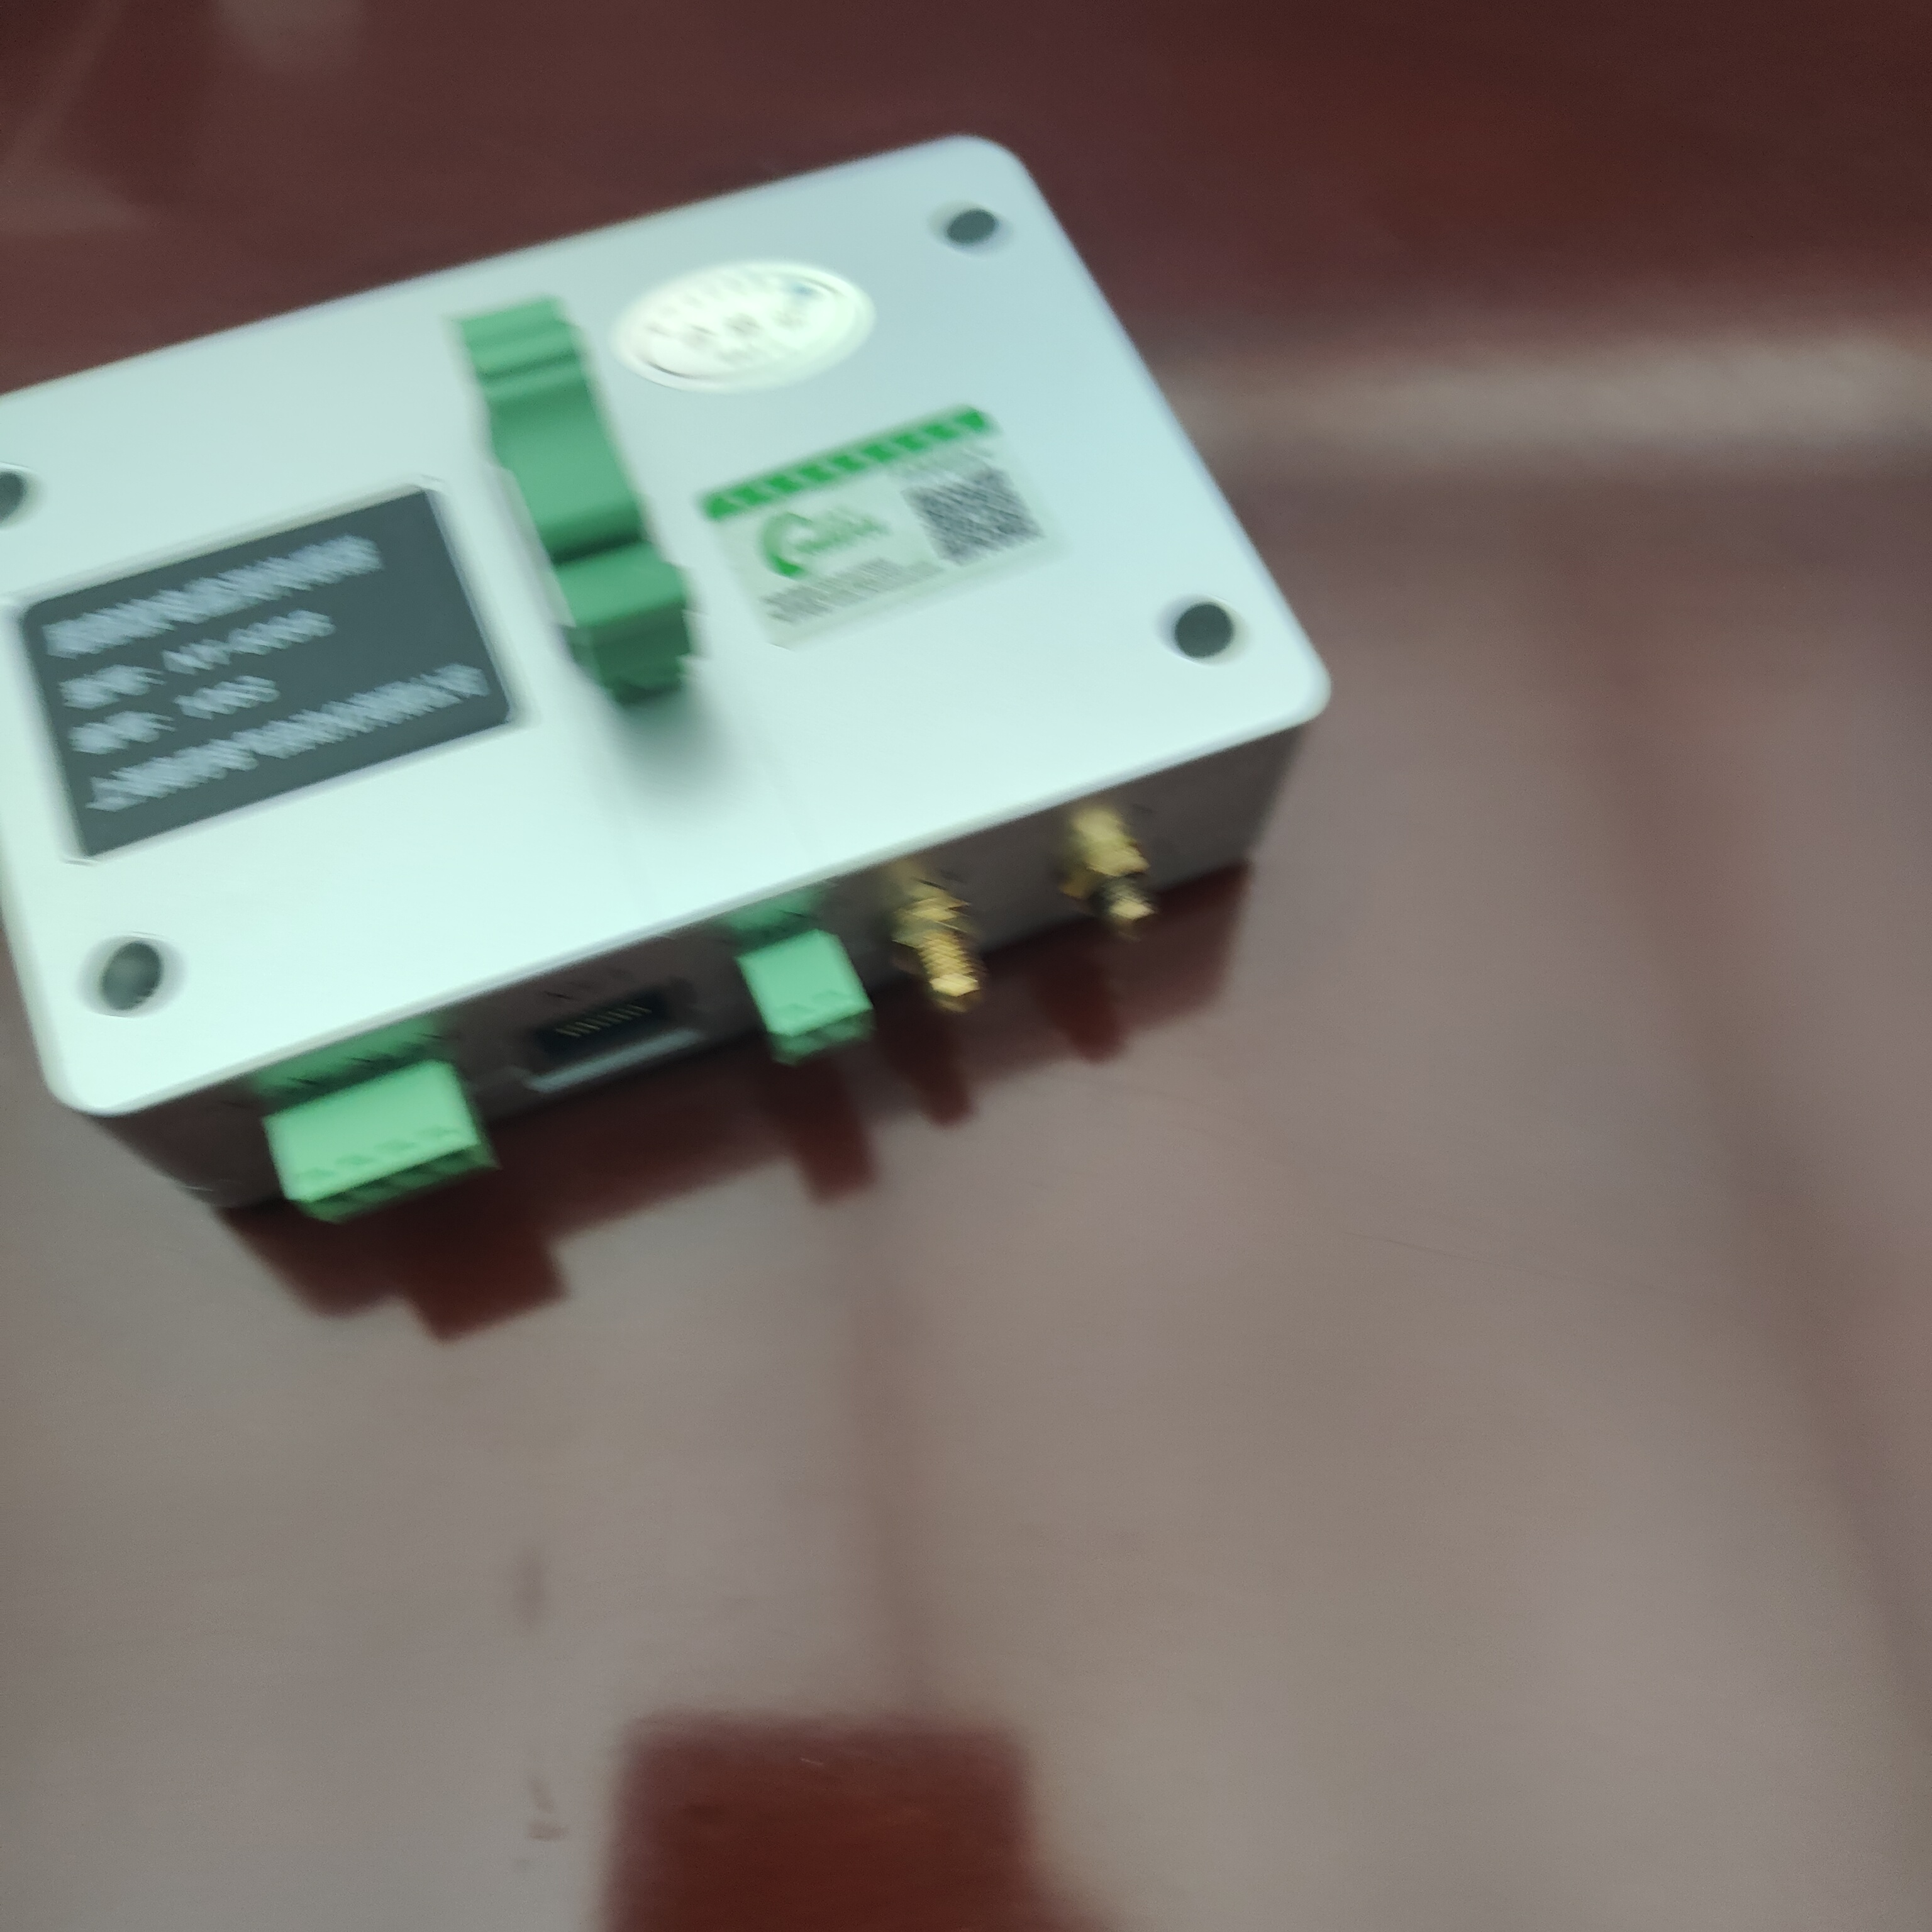jbfdjc: (5, 138, 1329, 1223)
